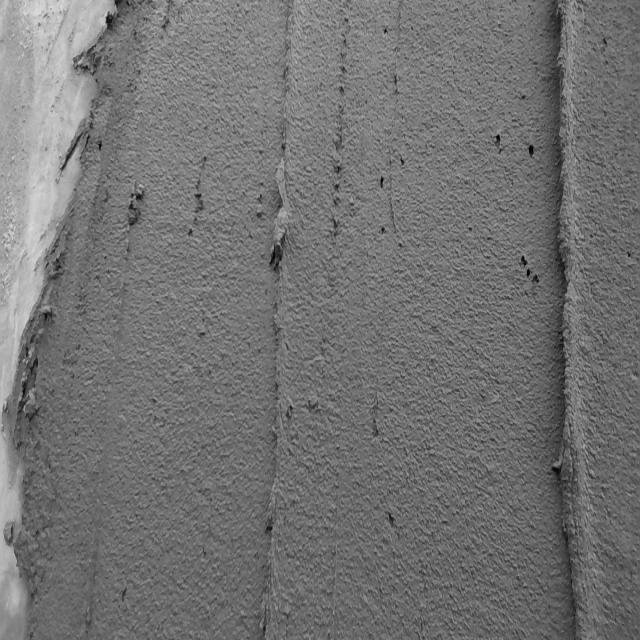trowels marks: (258, 0, 300, 615), (555, 0, 590, 636)
